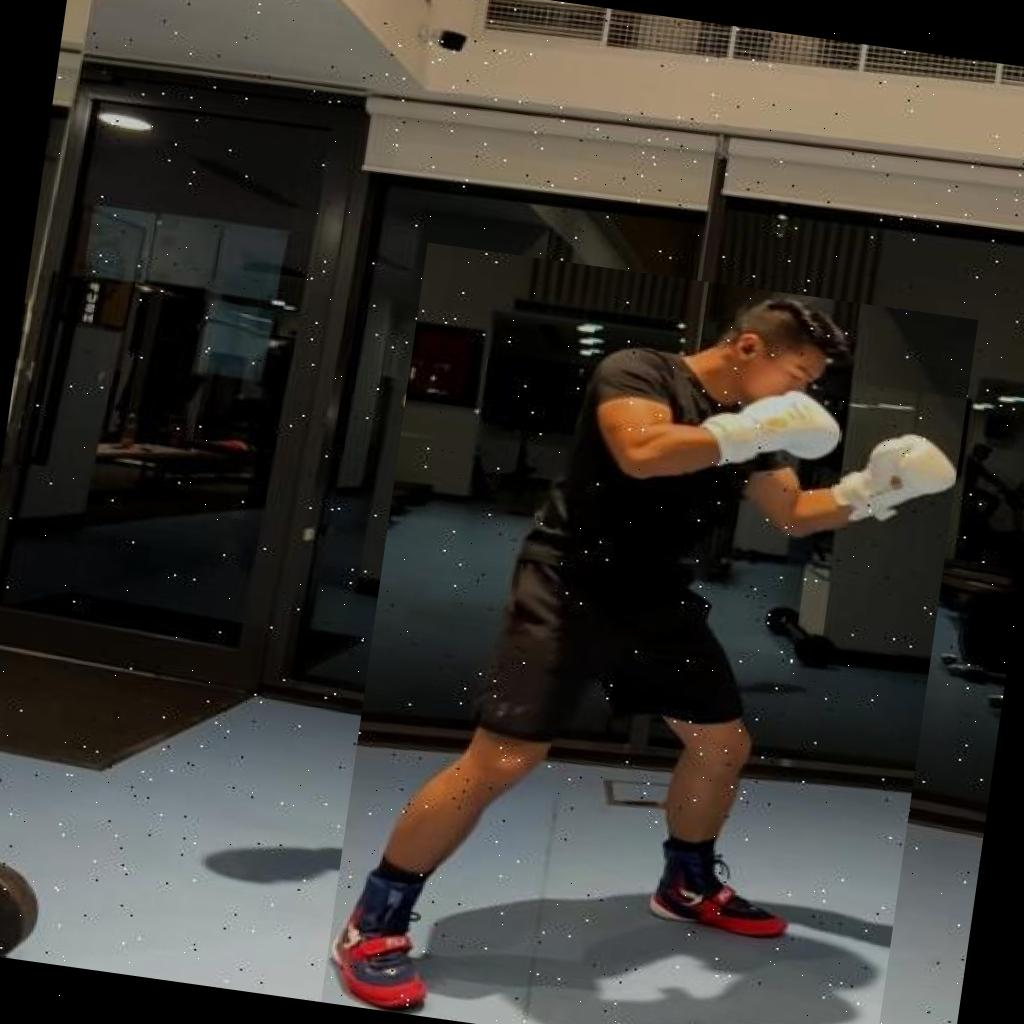uppercut: (321, 242, 978, 1024)
